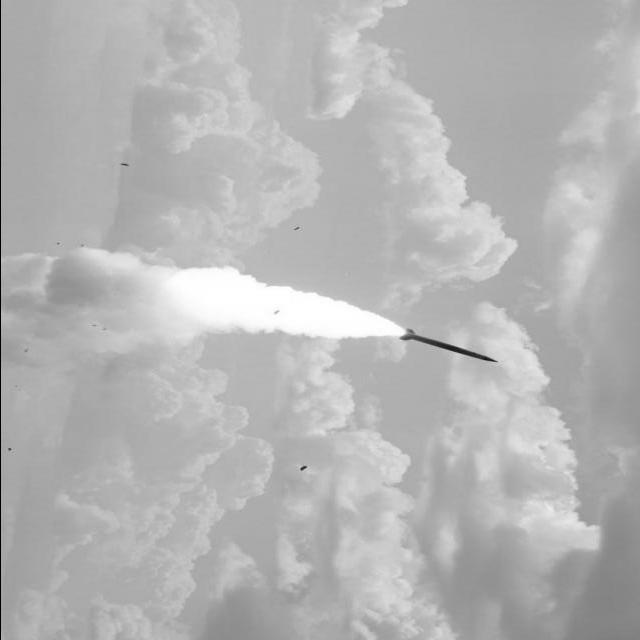missile: (395, 327, 513, 365)
